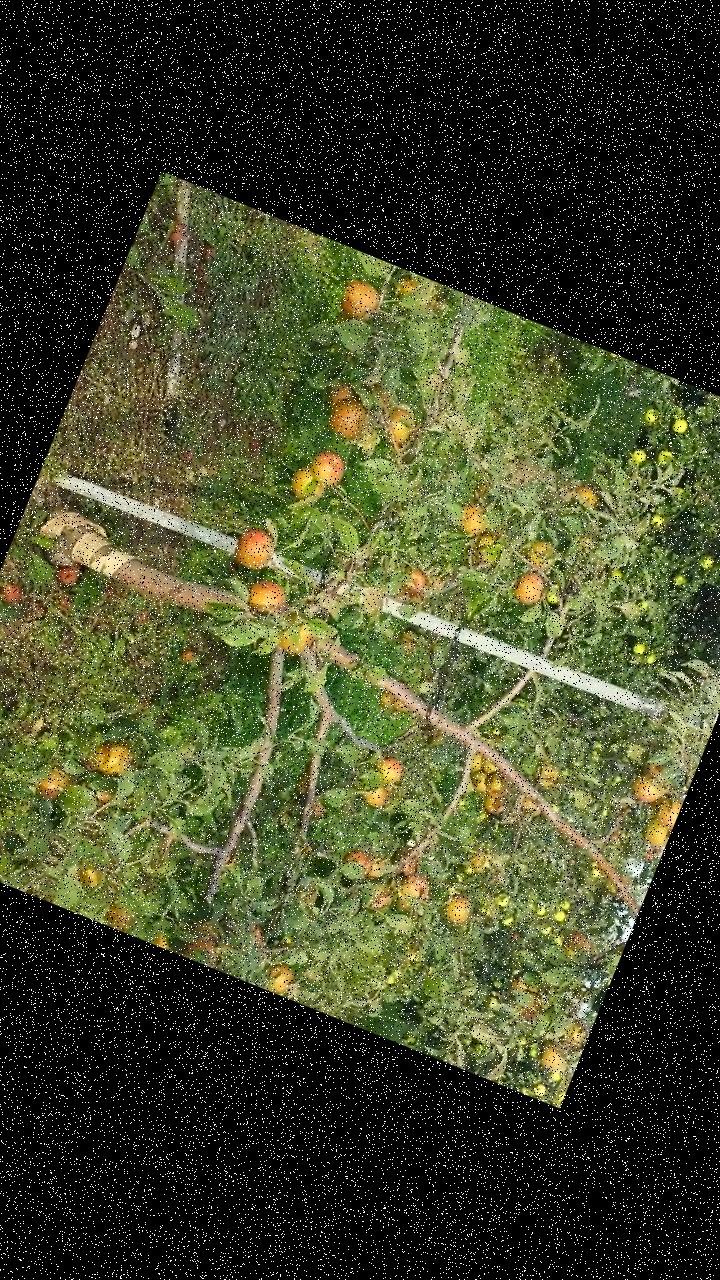Apple: (226, 520, 278, 576), (271, 608, 321, 662), (336, 277, 385, 326), (321, 396, 370, 442), (90, 735, 137, 782), (283, 460, 329, 508), (304, 447, 350, 492), (244, 577, 290, 622), (509, 568, 548, 612), (453, 501, 494, 542), (180, 929, 222, 968), (624, 771, 666, 809), (262, 961, 300, 998), (382, 406, 417, 446), (650, 790, 684, 831), (439, 891, 474, 930), (101, 898, 139, 933), (534, 1040, 570, 1076), (524, 538, 560, 574), (340, 846, 376, 882), (394, 870, 432, 904), (361, 780, 396, 816), (36, 769, 70, 805), (514, 991, 547, 1028), (528, 758, 563, 792), (391, 843, 424, 879), (388, 274, 422, 308), (323, 379, 356, 413), (397, 564, 428, 600), (481, 766, 514, 799), (73, 861, 107, 893), (364, 882, 396, 915), (640, 819, 671, 852), (561, 928, 595, 956), (560, 1019, 590, 1050), (377, 755, 407, 786), (570, 482, 602, 510), (464, 846, 491, 878), (394, 630, 422, 659), (515, 794, 545, 821), (639, 759, 669, 785), (480, 795, 508, 822), (390, 886, 417, 914), (307, 798, 333, 824), (474, 529, 499, 556), (467, 773, 494, 796), (373, 688, 398, 712), (244, 922, 267, 948), (364, 856, 386, 883), (478, 755, 502, 778), (292, 769, 312, 796), (470, 478, 490, 504), (88, 786, 114, 806), (466, 752, 486, 776), (152, 932, 176, 951), (508, 976, 530, 996), (390, 696, 413, 714)
